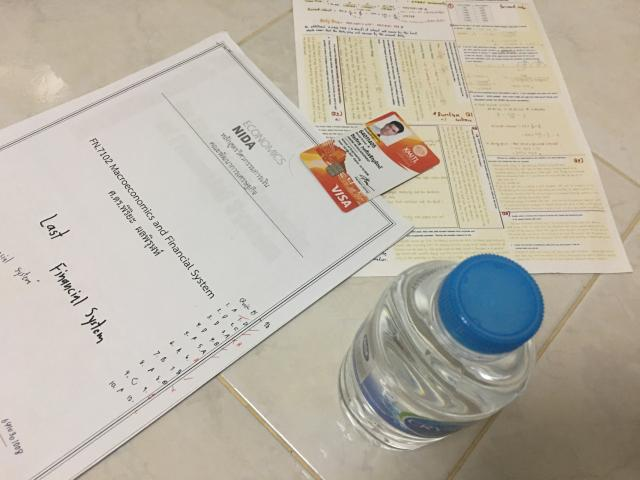bottle: (339, 254, 544, 450)
paper: (0, 32, 411, 479), (294, 0, 631, 280)
